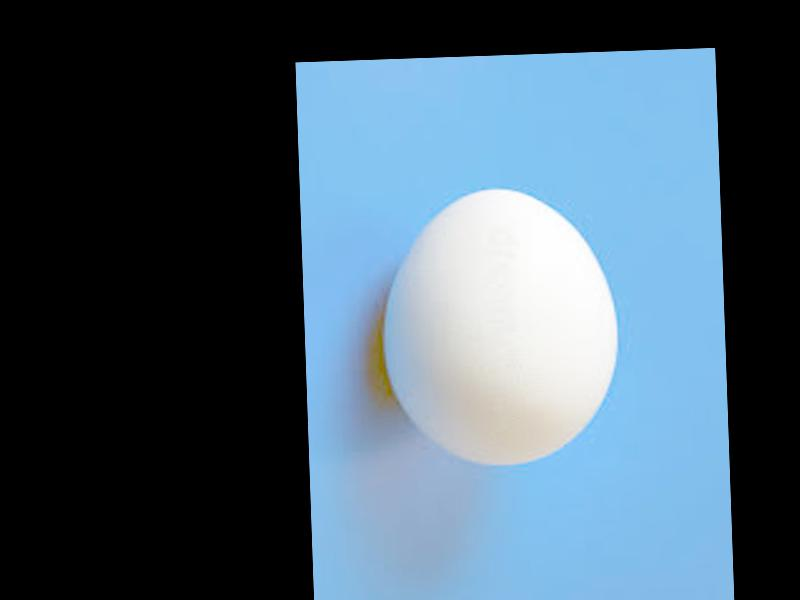Eggs: (377, 182, 621, 471)
